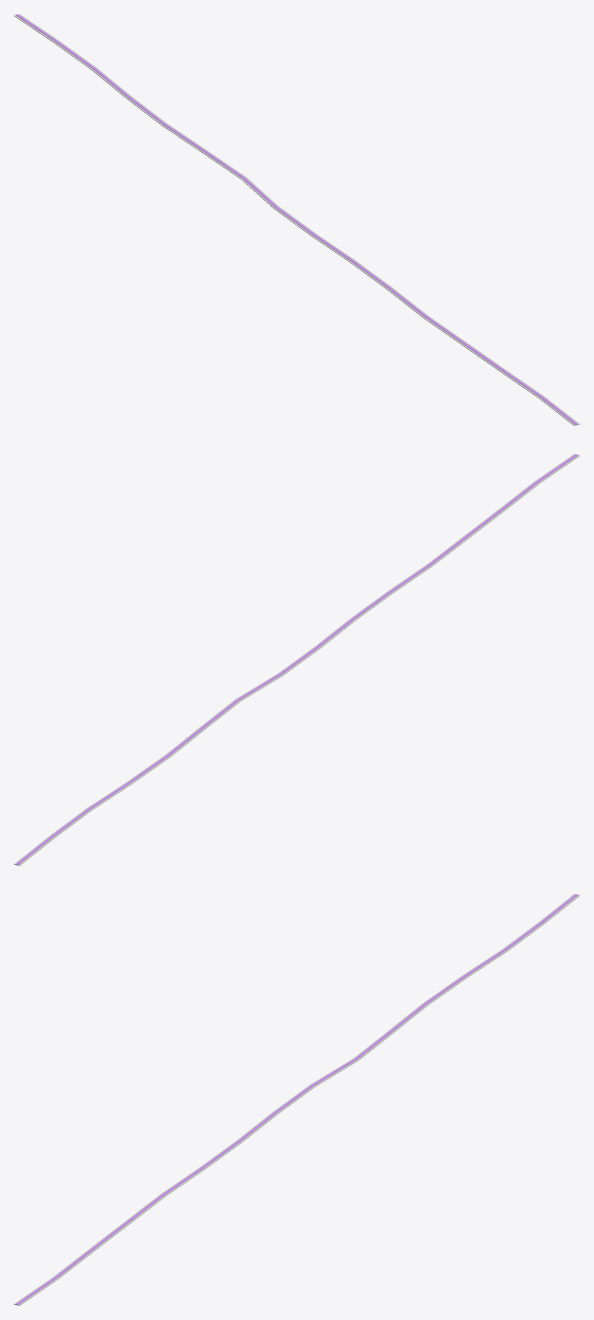
The model's file is EnergyVein.glb.
The picture shows the model from 3 angles, top to bottom: view 1: azimuth 30°, elevation 25°; view 2: azimuth 150°, elevation 25°; view 3: azimuth 330°, elevation 25°; orthographic projection.
Parts seen in each view (by area): view 1: Body, Glow; view 2: Body, Glow; view 3: Body, Glow.
Part boxes in pixels (x1,y1,x2,y2): Body: [14, 14, 579, 425]; Glow: [16, 14, 577, 424]; Body: [14, 454, 579, 865]; Glow: [15, 454, 577, 864]; Body: [14, 894, 579, 1305]; Glow: [15, 894, 577, 1304].
Bounding box in the file's own units: 0.7033 × 0.05 × 60.01.
